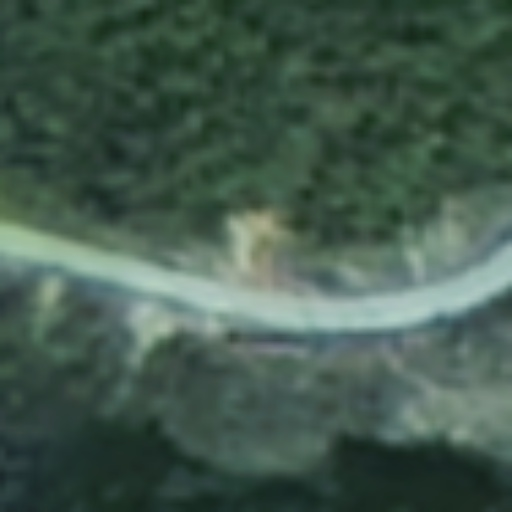landslide: (232, 208, 286, 271)
